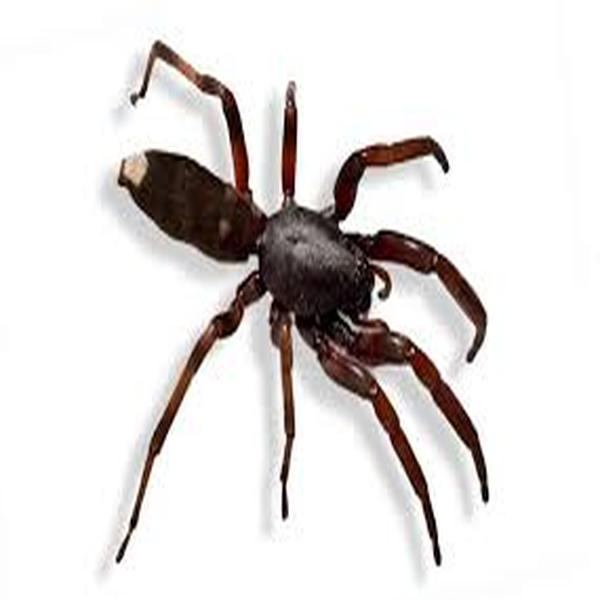White-Tailed Spider: (117, 41, 488, 558)
